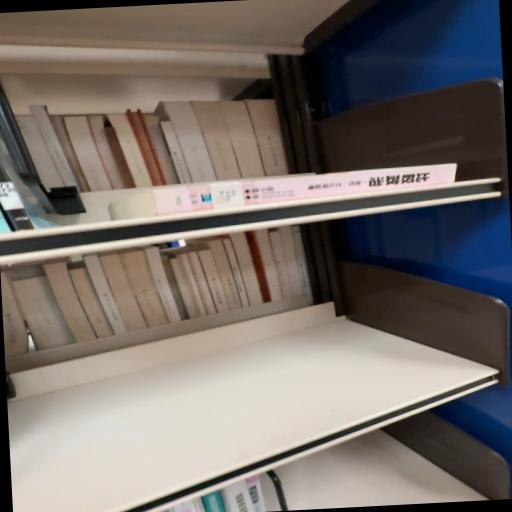flat: (110, 164, 457, 221)
